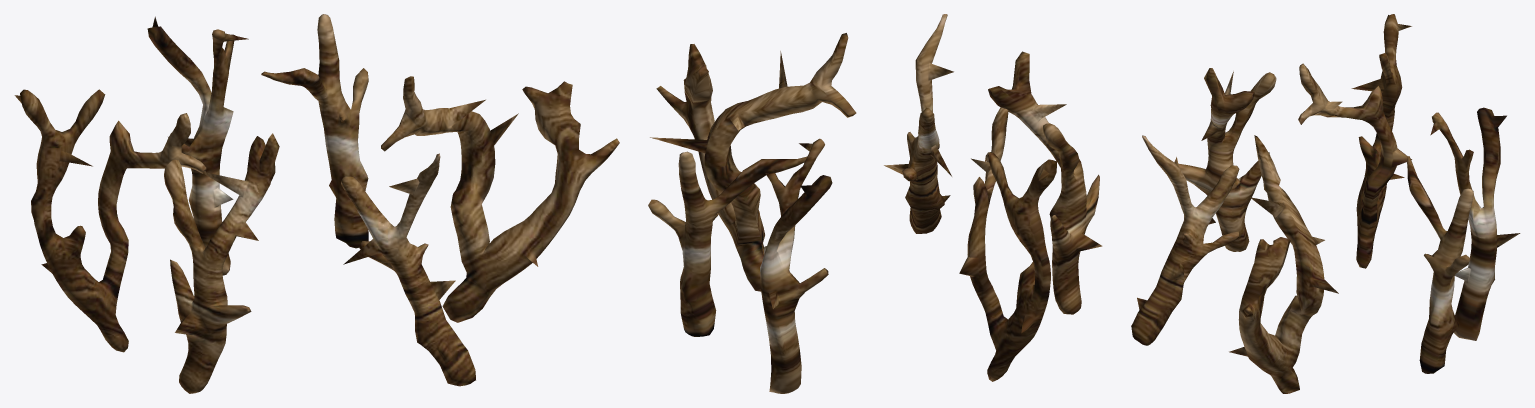
3 renders of one model, left to right at view 1: azimuth 30°, elevation 25°; view 2: azimuth 150°, elevation 25°; view 3: azimuth 270°, elevation 25°, orthographic. The views are drawn at different scales.
Visible parts, largest first — view 1: Root; view 2: Root; view 3: Root.
Boxes of the visible parts, x1,y1,x2,y2 form: Root: [14, 14, 619, 393]; Root: [648, 14, 1102, 393]; Root: [1131, 14, 1520, 393].
Bounding box in the file's own units: 221 × 115 × 176.
Materials: 1 (1 with a texture image).
